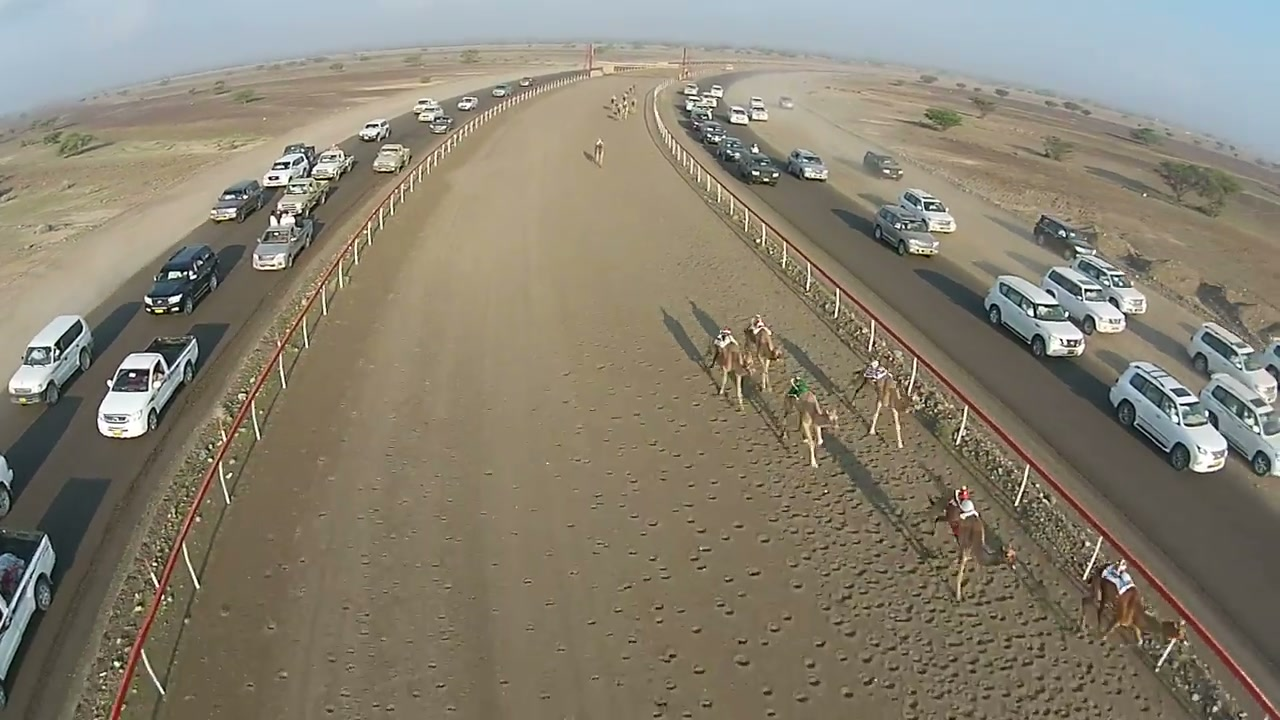animal_footprint: (659, 389, 1168, 718)
